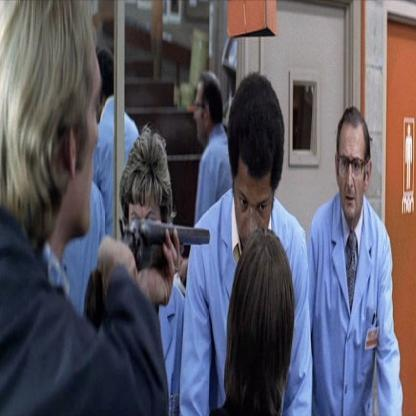gun: (119, 193, 215, 268)
